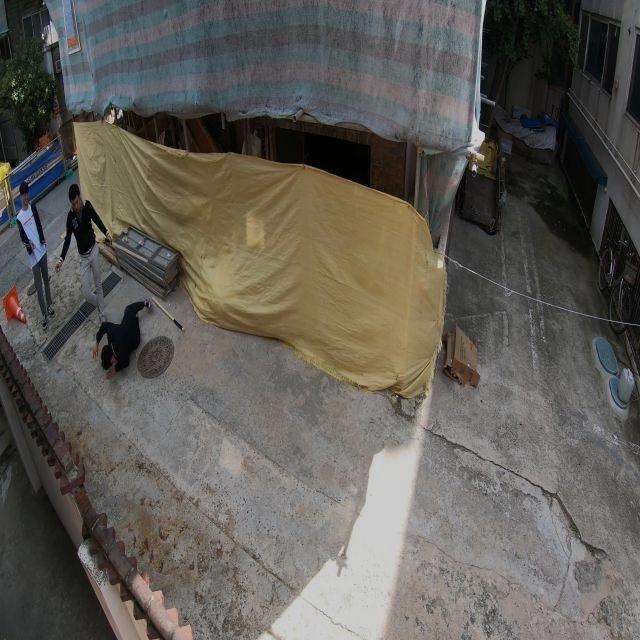fight: (57, 180, 153, 373)
non-fight: (16, 179, 57, 326)
